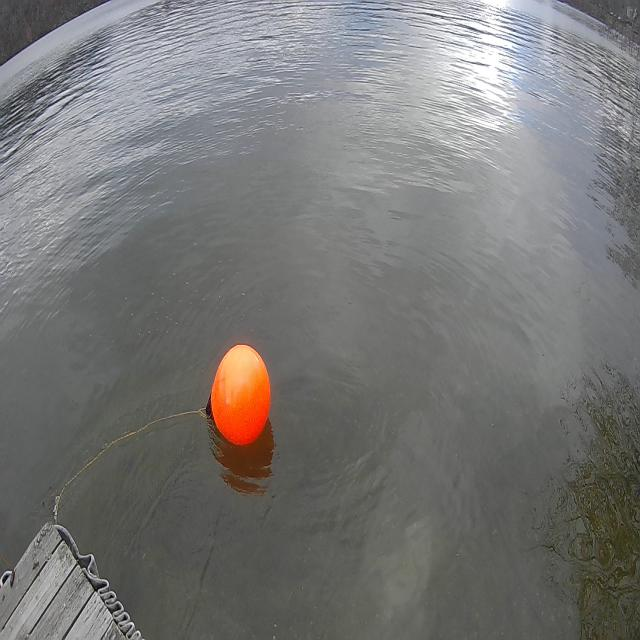Buoy: (204, 335, 282, 458)
